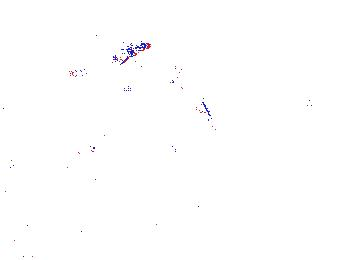glassfish: (160, 62, 220, 134)
red belly glassfish: (66, 65, 88, 78)
redtail glassfish: (109, 39, 153, 61), (132, 1, 178, 14), (90, 12, 123, 30)
siberian prawn: (36, 214, 112, 260)
